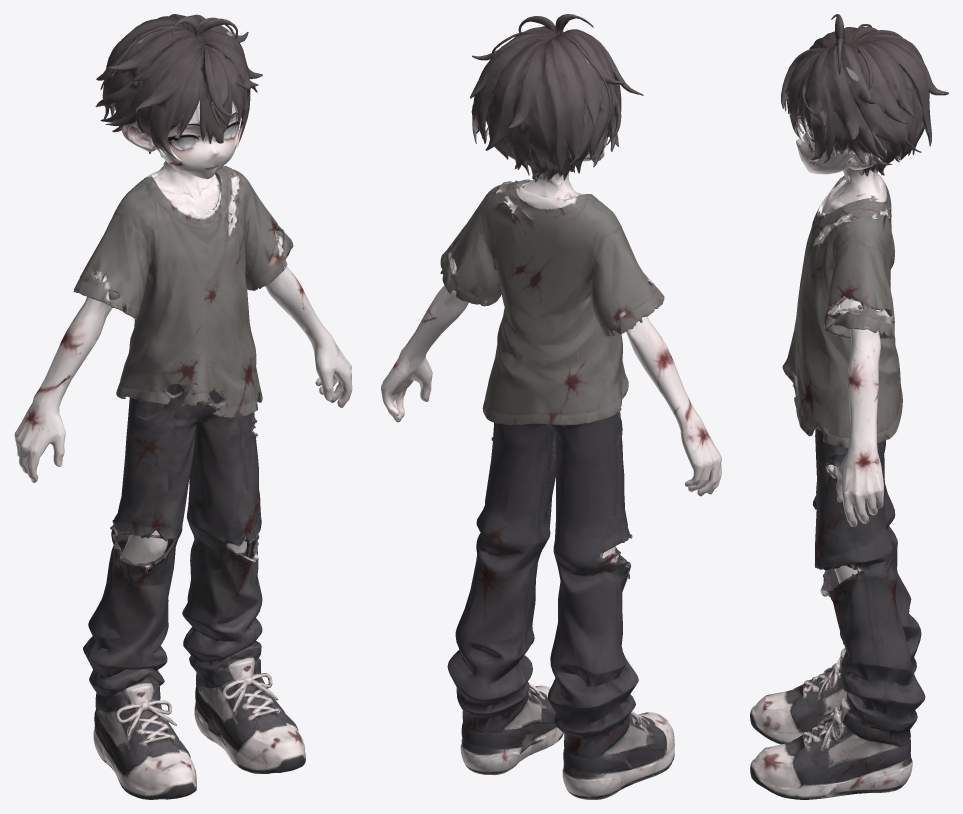
Rendered from ENM_001_infected_basic_a.glb.
3 renders of one model, left to right at view 1: azimuth 30°, elevation 25°; view 2: azimuth 150°, elevation 25°; view 3: azimuth 270°, elevation 25°, orthographic.
Visible parts, largest first — view 1: Mesh_0; view 2: Mesh_0; view 3: Mesh_0.
Boxes of the visible parts, x1=… form: Mesh_0: x1=14, y1=14, x2=352, y2=799; Mesh_0: x1=381, y1=14, x2=721, y2=799; Mesh_0: x1=750, y1=14, x2=948, y2=799.
Size of the model in its own units: 0.7675 by 1.65 by 0.4026.
Materials: 1 (1 with a texture image).
